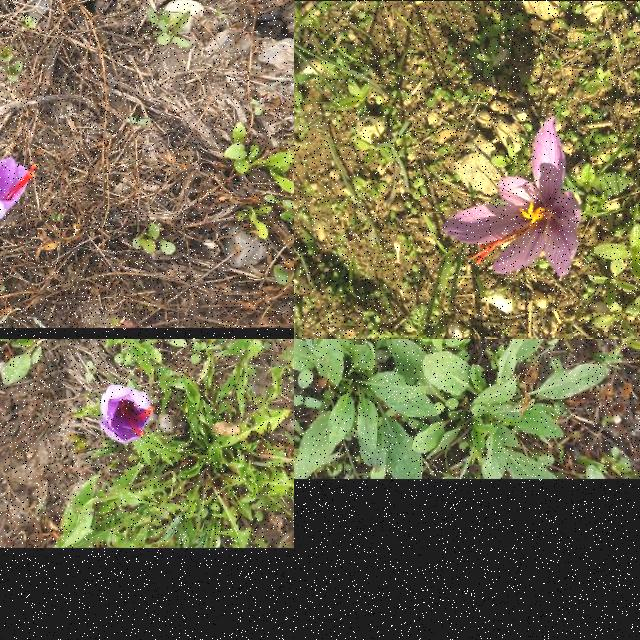flower: (440, 115, 584, 277), (98, 386, 154, 446), (0, 154, 38, 226)
